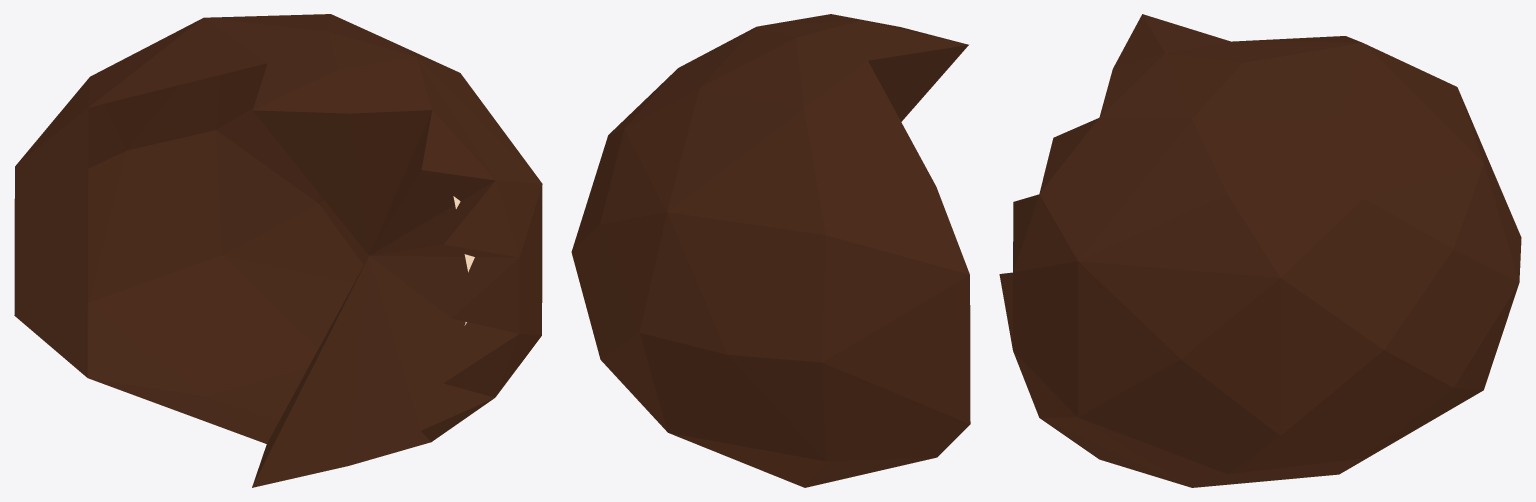
File: hair2.glb
3 renders of one model, left to right at view 1: azimuth 30°, elevation 25°; view 2: azimuth 150°, elevation 25°; view 3: azimuth 270°, elevation 25°, orthographic. The views are drawn at different scales.
Parts seen in each view (by area): view 1: tomodachi-2026-03-08-00-17-53-632; view 2: tomodachi-2026-03-08-00-17-53-632; view 3: tomodachi-2026-03-08-00-17-53-632.
Part boxes in pixels (left/top/right/bottom): tomodachi-2026-03-08-00-17-53-632: left=14, top=14, right=542, bottom=487; tomodachi-2026-03-08-00-17-53-632: left=571, top=14, right=970, bottom=487; tomodachi-2026-03-08-00-17-53-632: left=999, top=14, right=1521, bottom=487.
Bounding box in the file's own units: 1.19 × 1.1 × 1.25.
2 materials, 2 textured.
